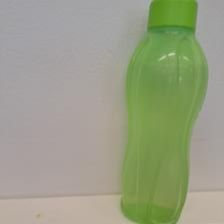bottle: (113, 0, 209, 224)
